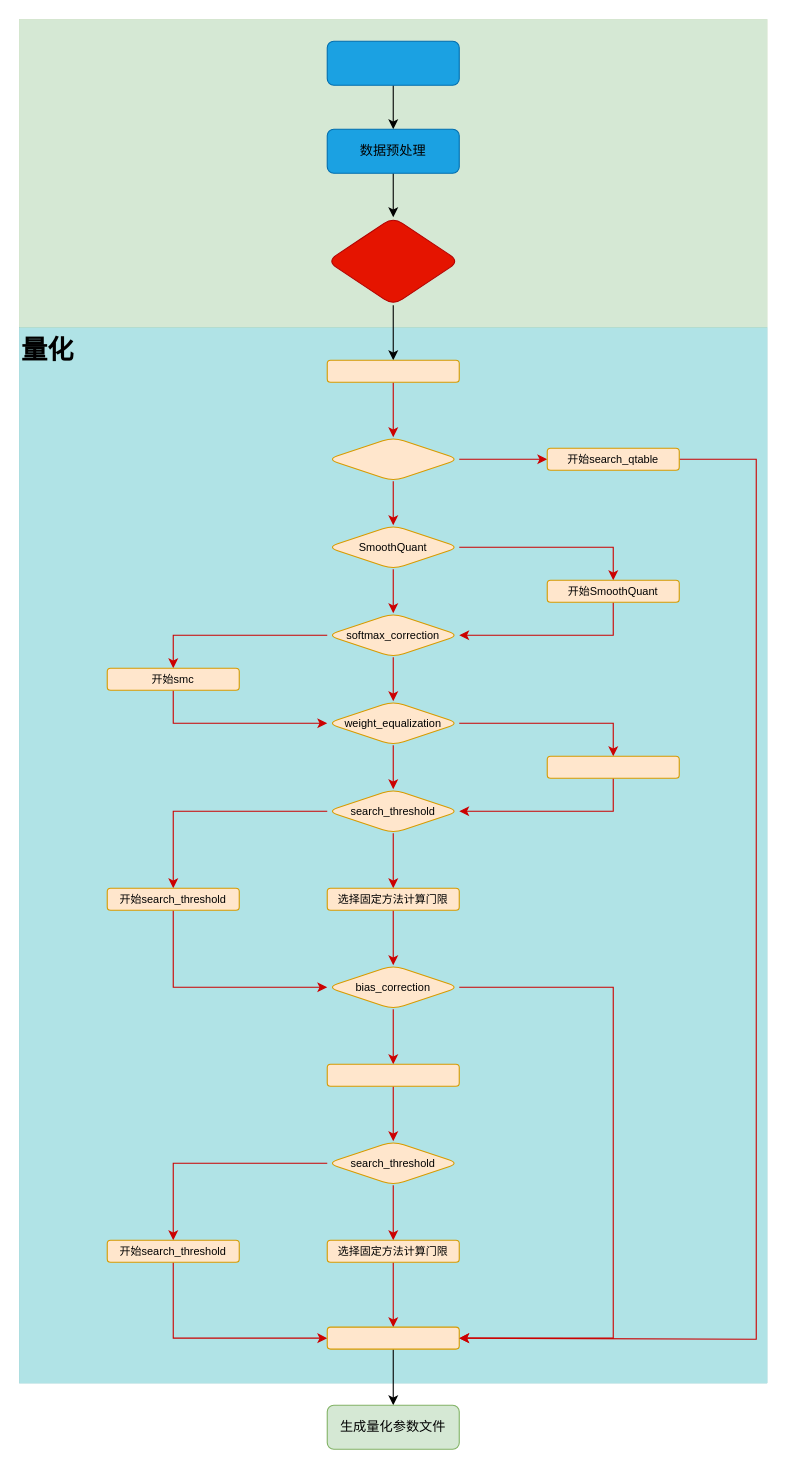
Some shapes in this 785 by 1469 pixel diagram are drawn without their labels. The box of each missing label's shape, as (x1, y1, x2, y2) in pixels:
search_qtable: (326, 436, 459, 481)
准备工作: (19, 19, 767, 327)
开始: (326, 359, 459, 382)
开始bias_correction: (326, 1063, 459, 1086)
开始we: (546, 755, 679, 778)
确保浮点模型对齐: (326, 216, 459, 305)
筛选校准数据集: (326, 40, 459, 85)
结束: (326, 1326, 459, 1349)
